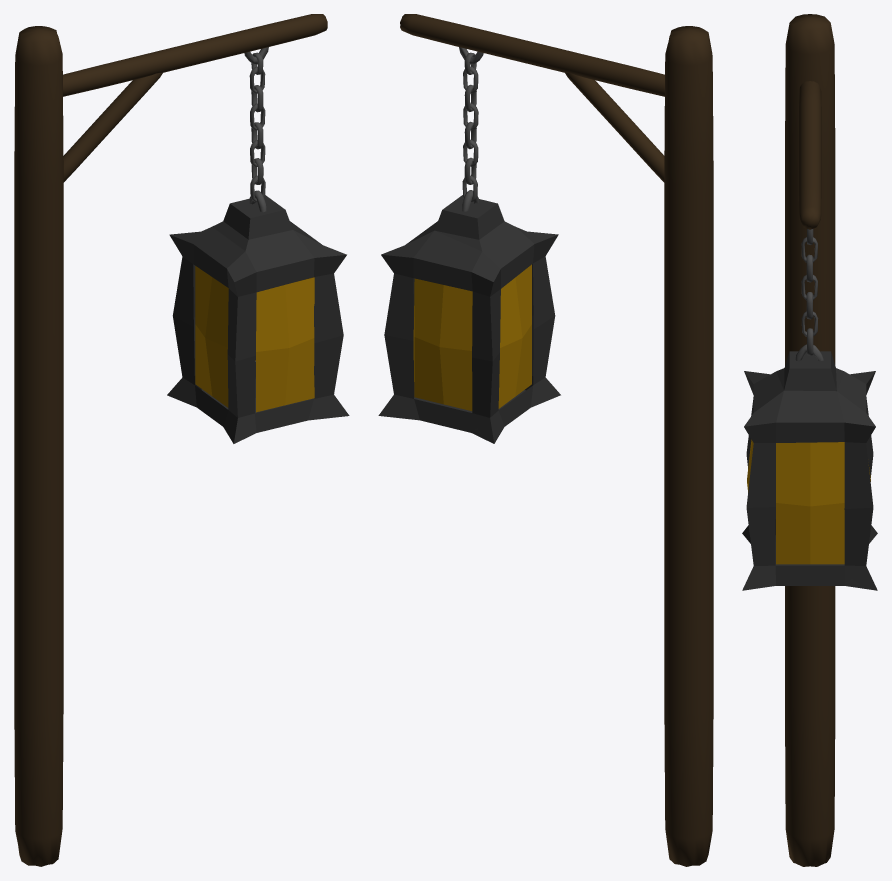
The model's file is Laterne_ganz.glb.
3 renders of one model, left to right at view 1: azimuth 30°, elevation 25°; view 2: azimuth 150°, elevation 25°; view 3: azimuth 270°, elevation 25°, orthographic.
Parts seen in each view (by area): view 1: Stange; view 2: Stange; view 3: Stange.
Part boxes in pixels (x1,y1,x2,y2): Stange: [14, 14, 349, 866]; Stange: [378, 14, 713, 866]; Stange: [742, 14, 877, 866].
Size of the model in its own units: 1.61 by 4.15 by 0.6032.
